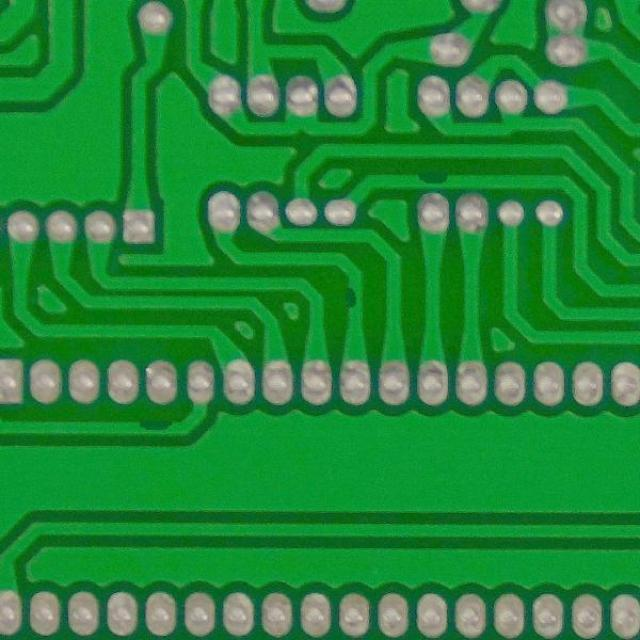MouseBite: (406, 167, 460, 190), (128, 415, 181, 438), (342, 280, 367, 317)
